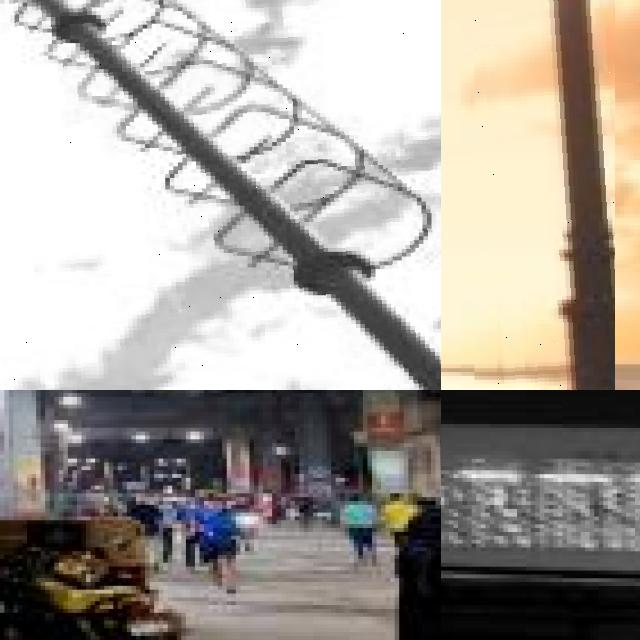street light: (0, 0, 441, 390), (474, 0, 615, 390), (45, 397, 79, 486)
